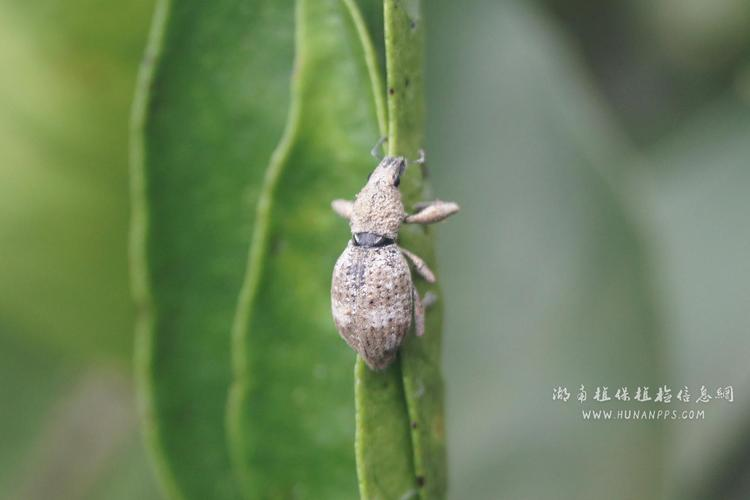Curculionidae: (328, 137, 459, 372)
